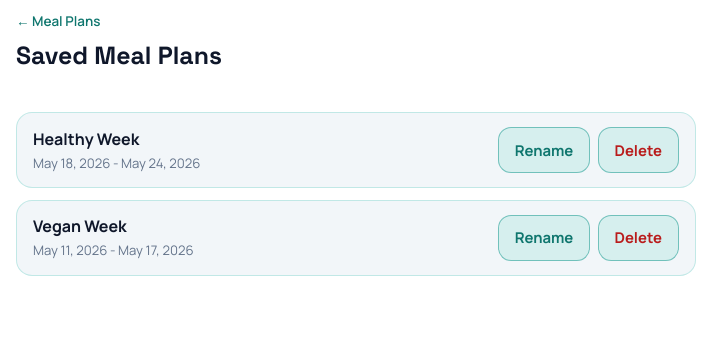
SavedMealPlansPage › rename › cancels rename on Escape key
Expected: the text "Healthy Week" is shown, [33,128,139,150]
Step 1. Click the button "Rename" in the row of "Healthy Week" → (544, 150), box [498,127,590,173]
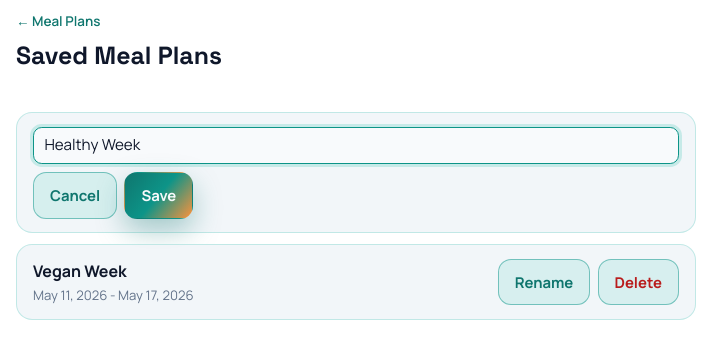
Step 2. Press Escape in the field showing "Healthy Week", box [33,127,679,164]
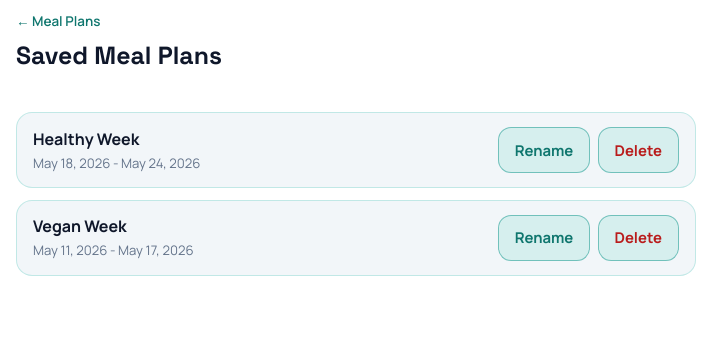
Result: the text "Healthy Week" is shown at [33,128,139,150]
